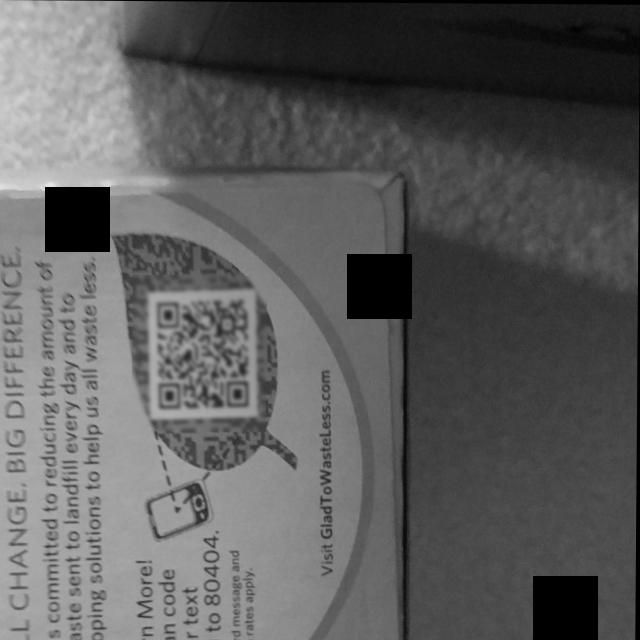QR_CODE: (132, 275, 267, 432)
